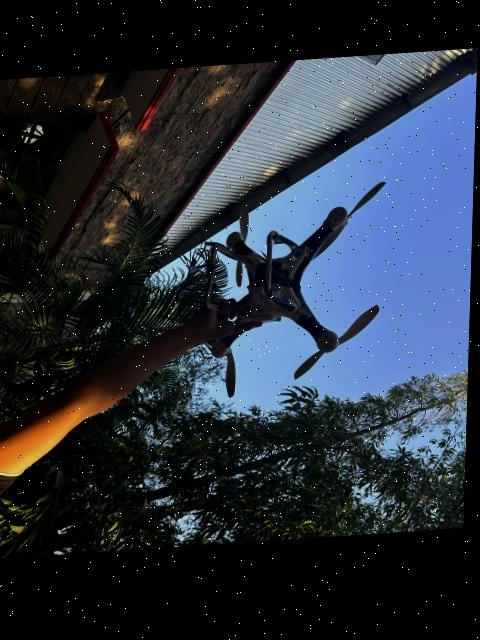drone: (164, 161, 415, 438)
